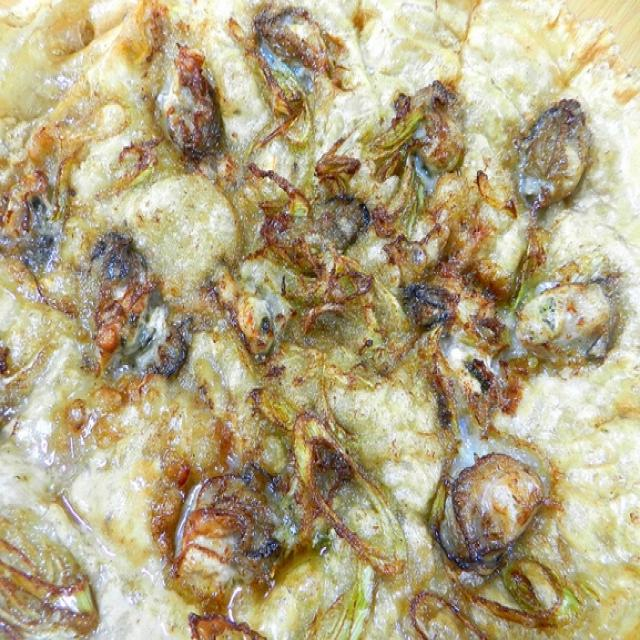熟制海鲜: (6, 2, 634, 625)
